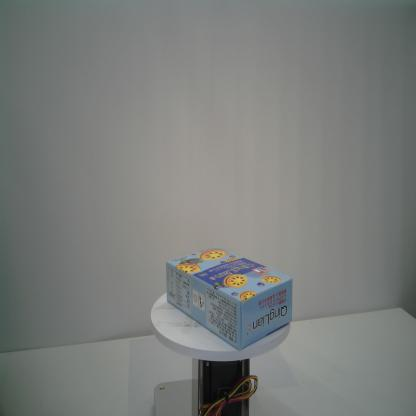Dessert: (165, 246, 294, 350)
